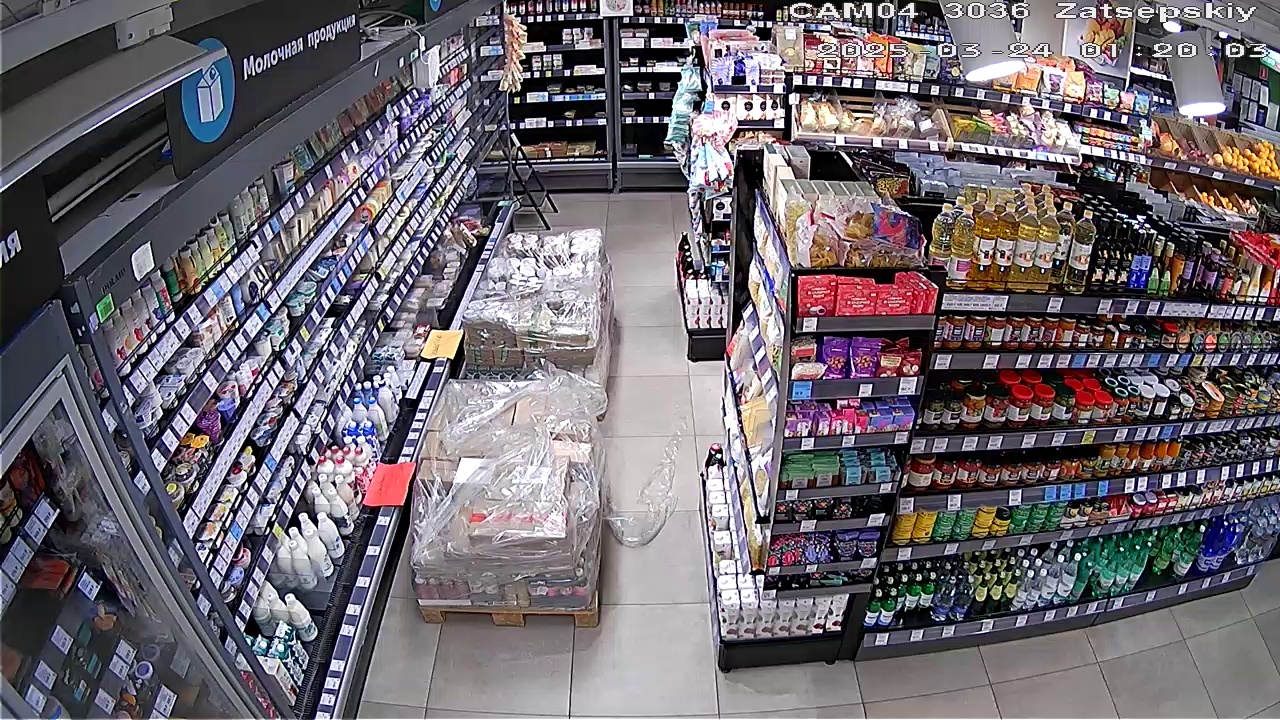pallet: (403, 370, 613, 629), (460, 219, 616, 397)
